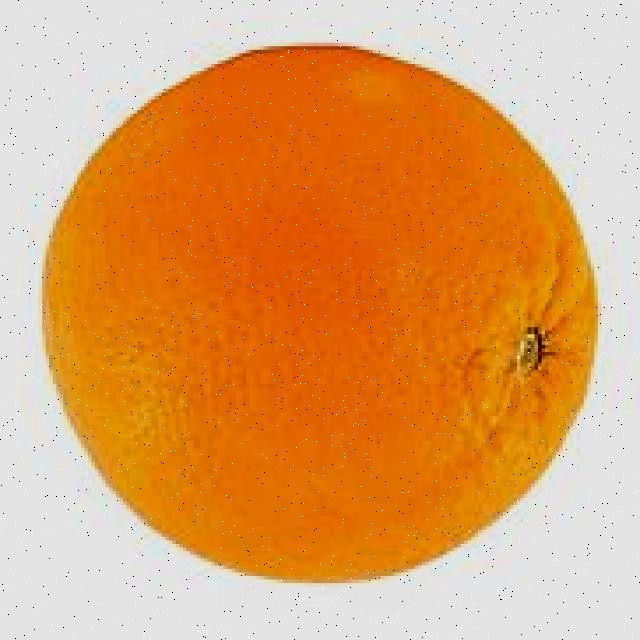Ripe: (35, 41, 603, 592)
